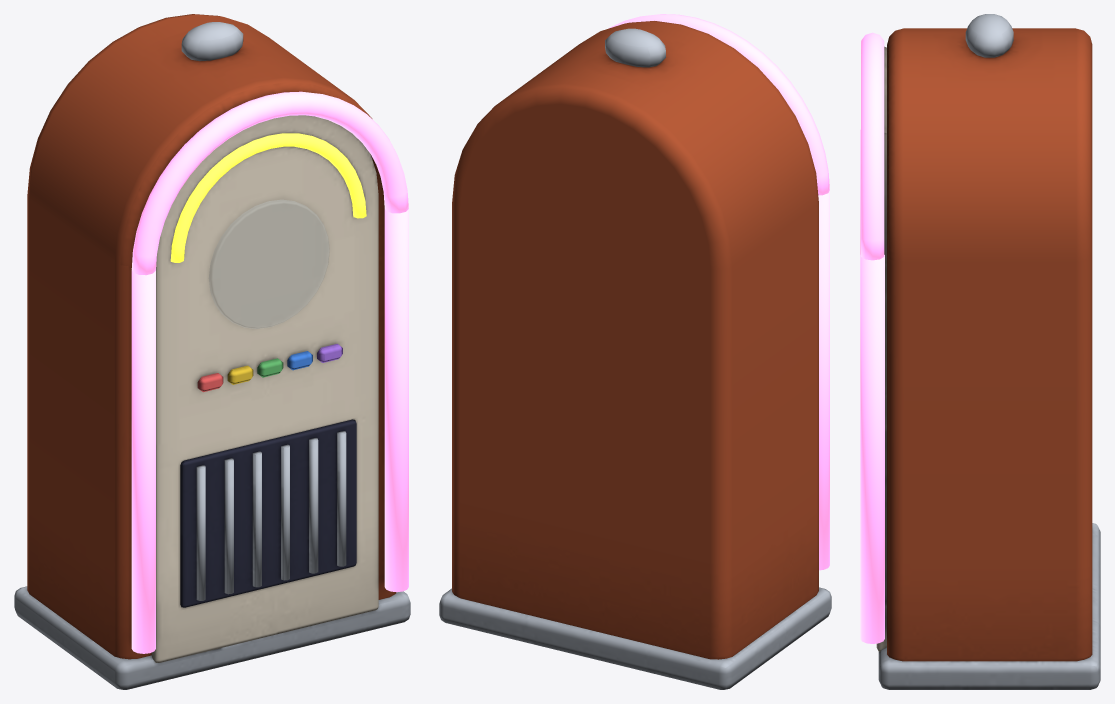
Rendered from jukebox.glb.
The picture shows the model from 3 angles, left to right: view 1: azimuth 30°, elevation 25°; view 2: azimuth 150°, elevation 25°; view 3: azimuth 270°, elevation 25°; orthographic projection. The views are drawn at different scales.
Visible parts, largest first — view 1: jukebox; view 2: jukebox; view 3: jukebox.
Part boxes in pixels (left/top/right/bottom): jukebox: left=14, top=14, right=410, bottom=689; jukebox: left=439, top=14, right=831, bottom=689; jukebox: left=860, top=14, right=1100, bottom=689.
Bounding box in the file's own units: 0.84 × 1.62 × 0.585.
Materials: 14 (11 with a texture image).
